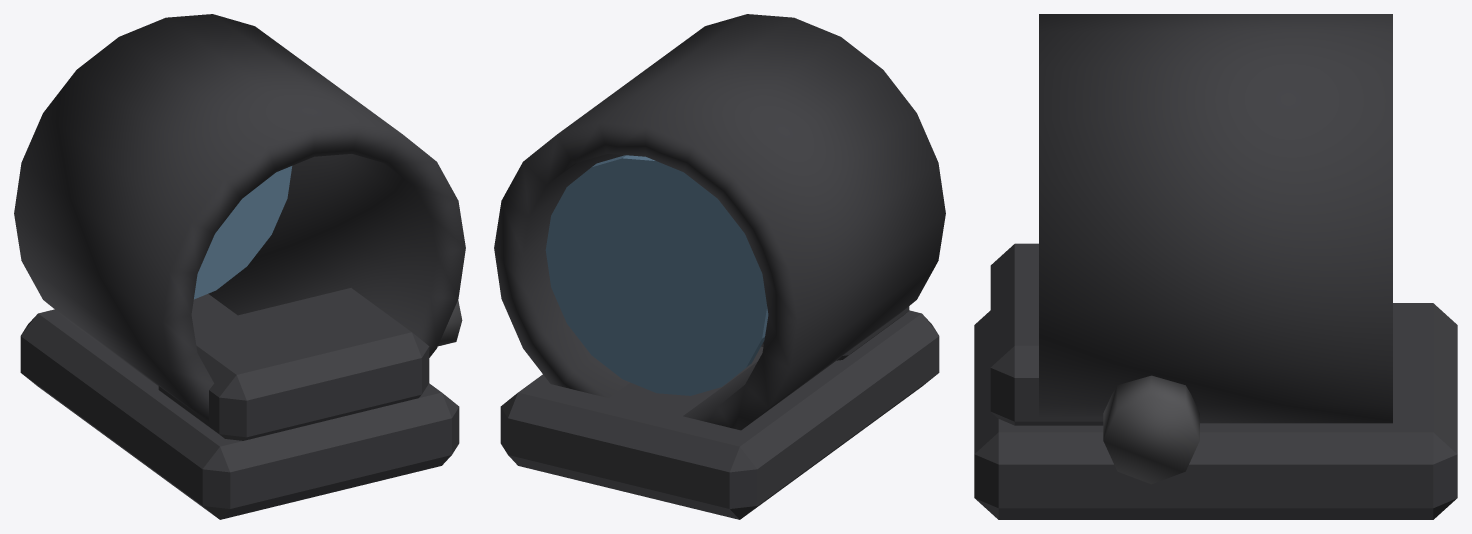
Rendered from part_kolimator.glb.
3 views of the same model, side by side, from view 1: azimuth 30°, elevation 25°; view 2: azimuth 150°, elevation 25°; view 3: azimuth 270°, elevation 25° (orthographic). The views are drawn at different scales.
Visible parts, largest first — view 1: Kolimator; view 2: Kolimator; view 3: Kolimator.
Boxes of the visible parts, x1,y1,x2,y2 form: Kolimator: [14, 14, 465, 519]; Kolimator: [494, 14, 945, 519]; Kolimator: [974, 14, 1457, 519].
Size of the model in its own units: 0.028 by 0.029 by 0.03.
